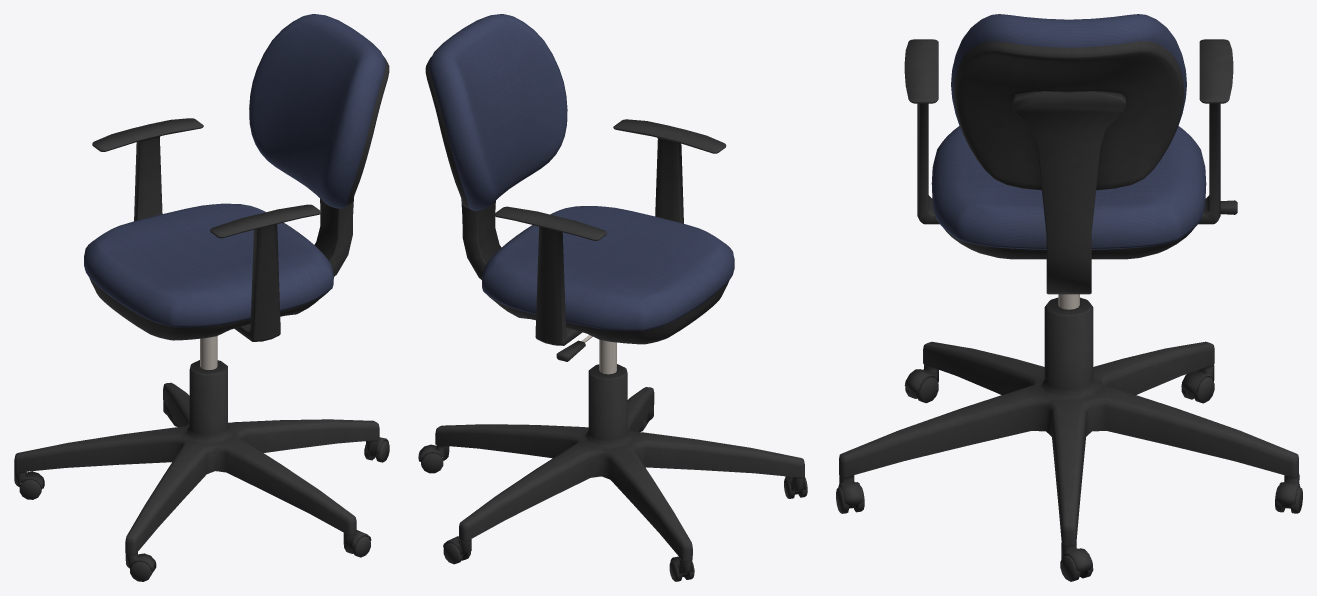
Rendered from SM_Chair_Office_01_Armrests.fbx.
3 renders of one model, left to right at view 1: azimuth 30°, elevation 25°; view 2: azimuth 150°, elevation 25°; view 3: azimuth 270°, elevation 25°, orthographic. The views are drawn at different scales.
Visible parts, largest first — view 1: SM_Chair_Office_01_Armrests_LOD0; view 2: SM_Chair_Office_01_Armrests_LOD0; view 3: SM_Chair_Office_01_Armrests_LOD0.
Boxes of the visible parts, x1,y1,x2,y2 form: SM_Chair_Office_01_Armrests_LOD0: [14, 14, 389, 581]; SM_Chair_Office_01_Armrests_LOD0: [418, 14, 807, 581]; SM_Chair_Office_01_Armrests_LOD0: [836, 14, 1302, 581].
Bounding box in the file's own units: 67.98 × 69.04 × 88.12.
